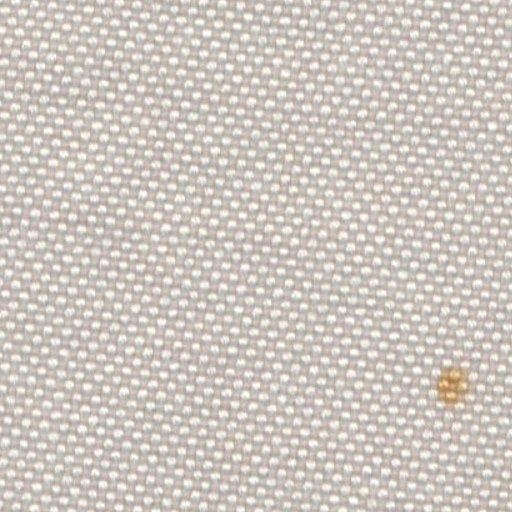WuZi: (420, 346, 485, 415)
